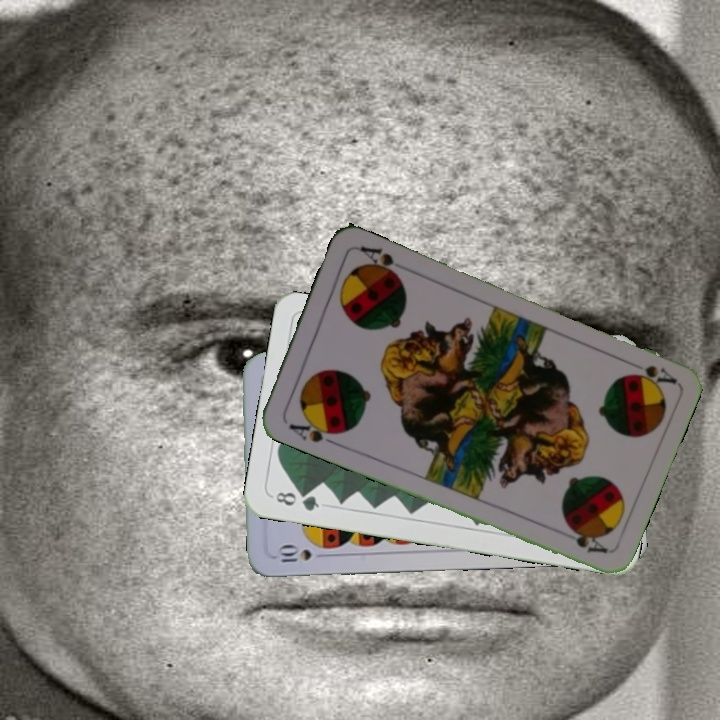G8: (268, 488, 322, 514)
S10: (273, 542, 331, 566)
SA: (284, 414, 343, 448), (621, 356, 678, 387)
